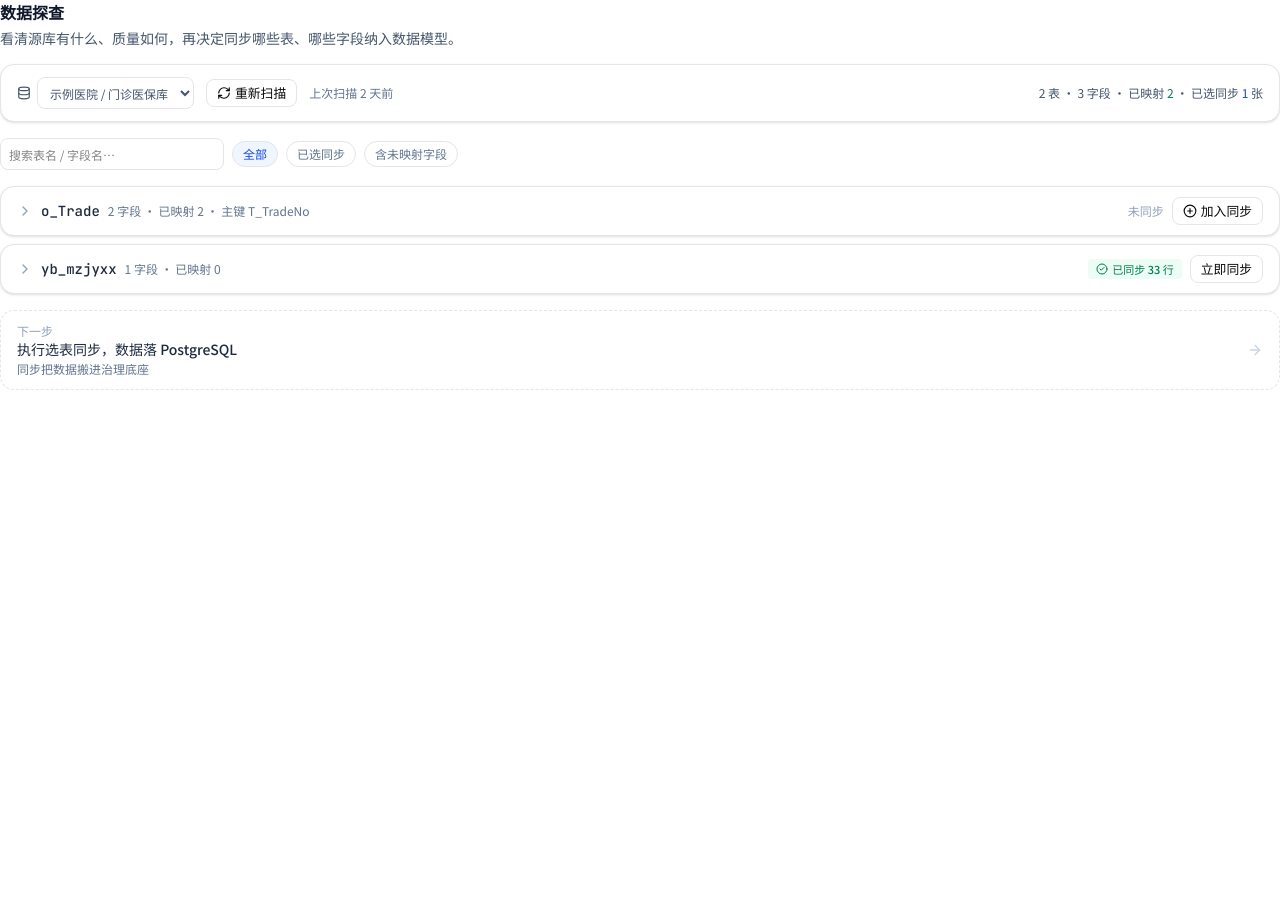
Test: 数据探查页（自包含版） › 加入同步：弹窗配置时间字段后确认才调 API
Click the button with test id "select-sync-o_Trade": (1217, 211) [1172,197,1263,225]
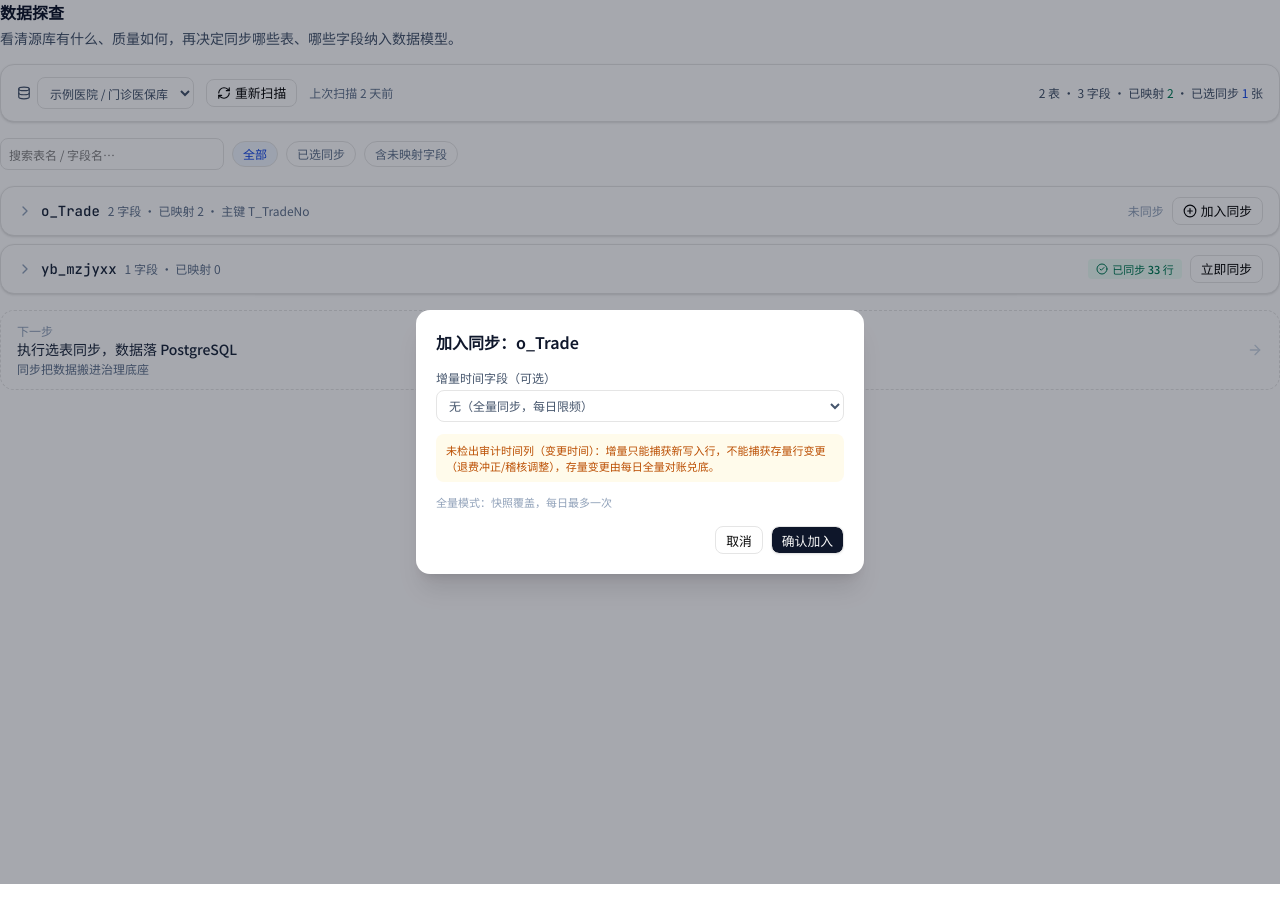
Check: the dialog with test id "select-sync-dialog" shows "加入同步：o_Trade", box [416,310,864,574]
选择增量时间字段后确认
Select "T_TradeDate（100% 非空，最大 2026-09-16）" in the dropdown labelled "增量时间字段（可选）": (640, 406) [436,390,844,422]
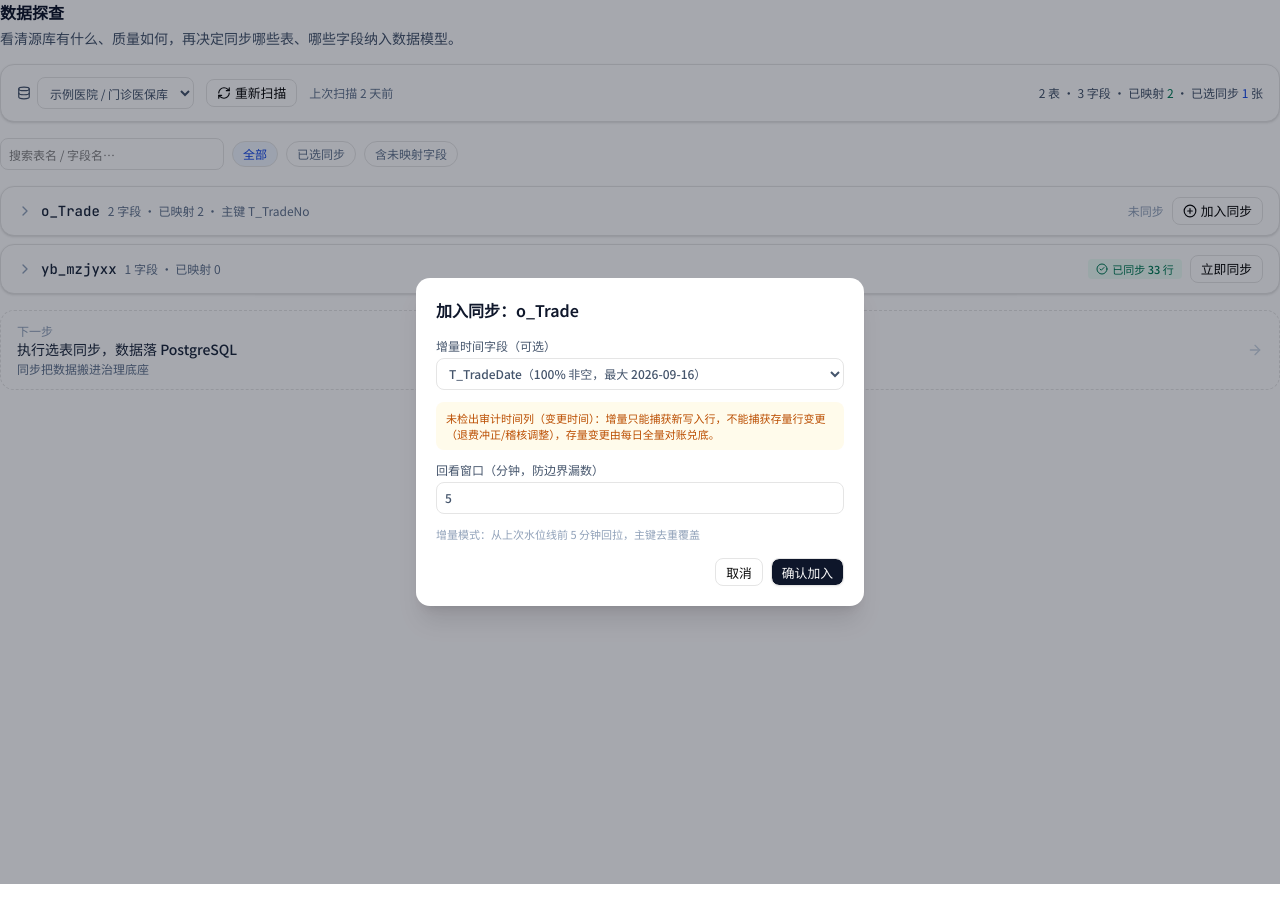
Click the button "确认加入": (807, 572) [771,558,844,586]
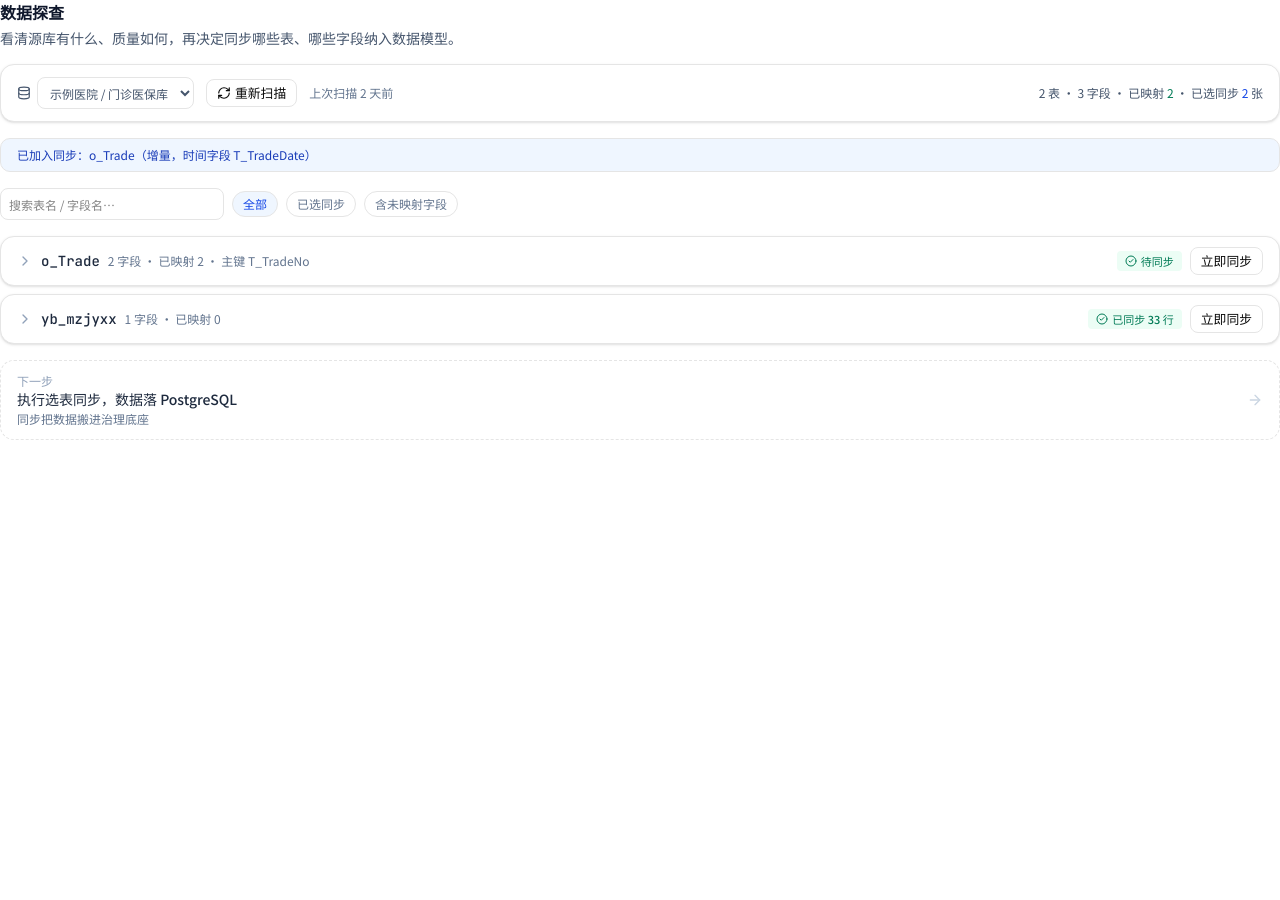
Check: the element with test id "table-o_Trade" shows "待同步", box [1141,253,1174,269]
